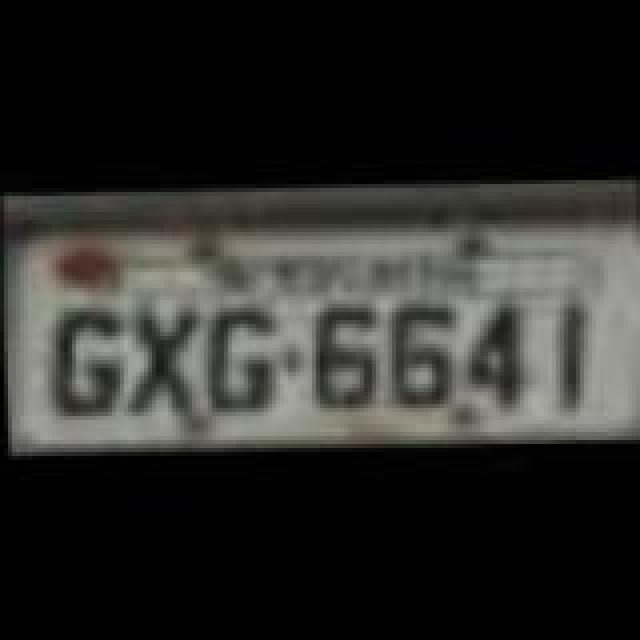1: (552, 302, 592, 410)
4: (460, 290, 532, 414)
6: (312, 296, 384, 412), (384, 298, 456, 410)
G: (48, 300, 128, 420), (208, 294, 280, 410)
X: (128, 300, 200, 416)
